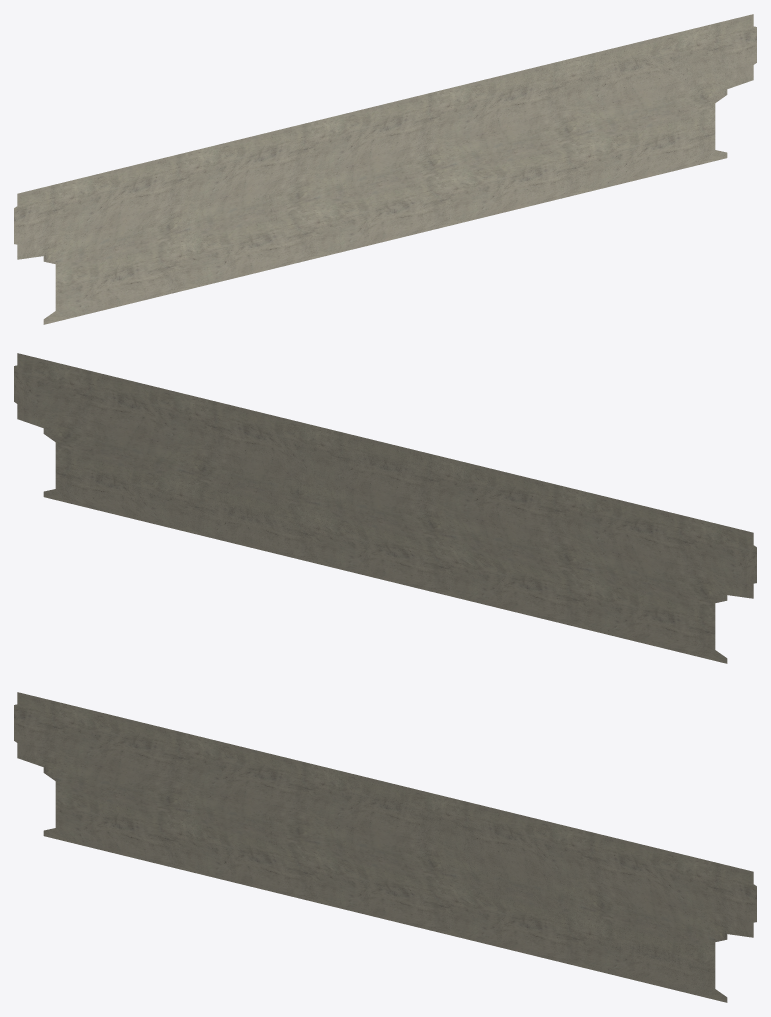
File: BridgeBase9-4L-Cap.FBX
3 renders of one model, top to bottom at view 1: azimuth 30°, elevation 25°; view 2: azimuth 150°, elevation 25°; view 3: azimuth 330°, elevation 25°, orthographic.
Parts seen in each view (by area): view 1: BridgeBase9-4L-Cap; view 2: BridgeBase9-4L-Cap; view 3: BridgeBase9-4L-Cap.
Boxes of the visible parts, x1,y1,x2,y2 form: BridgeBase9-4L-Cap: [14, 14, 756, 324]; BridgeBase9-4L-Cap: [14, 353, 756, 663]; BridgeBase9-4L-Cap: [14, 692, 756, 1002].
Size of the model in its own units: 28.25 by 5 by 2.97e-06.
